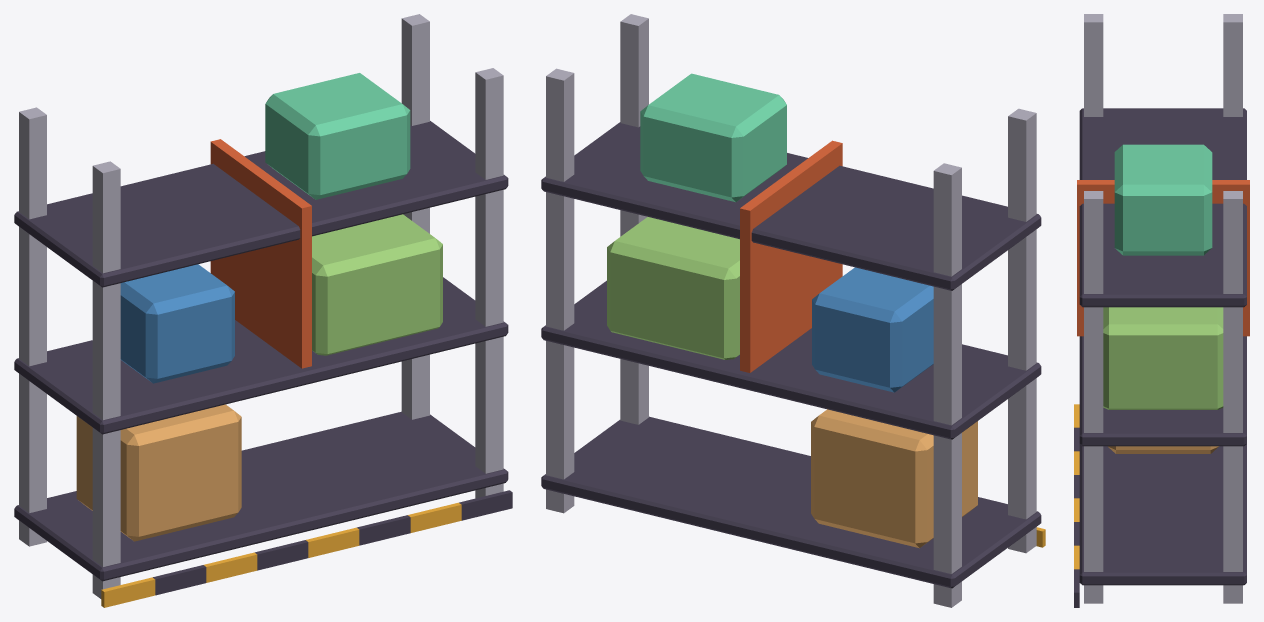
Rendered from MOONSHIFT_ENV_Cargo_Bay_Rack.glb.
3 renders of one model, left to right at view 1: azimuth 30°, elevation 25°; view 2: azimuth 150°, elevation 25°; view 3: azimuth 270°, elevation 25°, orthographic. The views are drawn at different scales.
Visible parts, largest first — view 1: Rack_Shelf0, Rack_Shelf2, Rack_Shelf1, Rack_BoxB, Rack_BoxA, Rack_BoxD, Rack_Strap, Rack_BoxC, Rack_Post0, Rack_Post1, Rack_Post2, Rack_Hazard (+1 smaller); view 2: Rack_Shelf0, Rack_Shelf2, Rack_Shelf1, Rack_BoxB, Rack_BoxA, Rack_BoxD, Rack_BoxC, Rack_Strap, Rack_Post2, Rack_Post3, Rack_Post0, Rack_Post1; view 3: Rack_Shelf0, Rack_Shelf2, Rack_BoxB, Rack_BoxD, Rack_Post1, Rack_Post3, Rack_Shelf1, Rack_Strap, Rack_Post0, Rack_Post2, Rack_Hazard, Rack_BoxA.
Boxes of the visible parts, <box> form: Rack_Shelf0: <box>14,411,508,581</box>; Rack_Shelf2: <box>14,121,508,287</box>; Rack_Shelf1: <box>14,277,508,434</box>; Rack_BoxB: <box>312,214,442,355</box>; Rack_BoxA: <box>76,404,241,541</box>; Rack_BoxD: <box>265,73,410,199</box>; Rack_Strap: <box>210,139,311,368</box>; Rack_BoxC: <box>120,264,234,383</box>; Rack_Post0: <box>92,161,120,598</box>; Rack_Post1: <box>475,68,503,498</box>; Rack_Post2: <box>19,107,46,546</box>; Rack_Hazard: <box>101,490,512,607</box>; Rack_Shelf0: <box>541,416,1041,588</box>; Rack_Shelf2: <box>541,122,1041,290</box>; Rack_Shelf1: <box>541,280,1041,439</box>; Rack_BoxB: <box>607,217,739,359</box>; Rack_BoxA: <box>811,409,977,548</box>; Rack_BoxD: <box>640,73,786,202</box>; Rack_BoxC: <box>812,267,933,392</box>; Rack_Strap: <box>740,140,842,372</box>; Rack_Post2: <box>933,163,961,607</box>; Rack_Post3: <box>546,68,574,513</box>; Rack_Post0: <box>1008,108,1036,553</box>; Rack_Post1: <box>620,14,648,424</box>; Rack_Shelf0: <box>1079,444,1246,585</box>; Rack_Shelf2: <box>1079,108,1246,307</box>; Rack_BoxB: <box>1103,307,1223,409</box>; Rack_BoxD: <box>1114,144,1212,255</box>; Rack_Post1: <box>1084,191,1103,603</box>; Rack_Post3: <box>1223,191,1242,603</box>; Rack_Shelf1: <box>1079,336,1246,446</box>; Rack_Strap: <box>1077,180,1249,336</box>; Rack_Post0: <box>1084,14,1103,116</box>; Rack_Post2: <box>1223,14,1242,116</box>; Rack_Hazard: <box>1074,404,1079,607</box>; Rack_BoxA: <box>1108,446,1218,453</box>.
Bounding box in the file's own units: 1.6 × 1.61 × 0.63.
